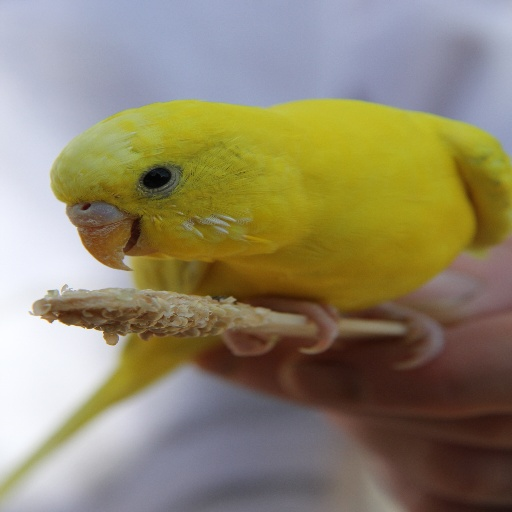hand: (183, 232, 511, 511)
